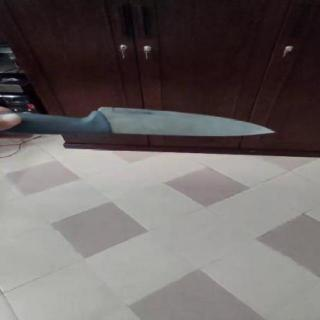knife: (83, 100, 284, 152)
